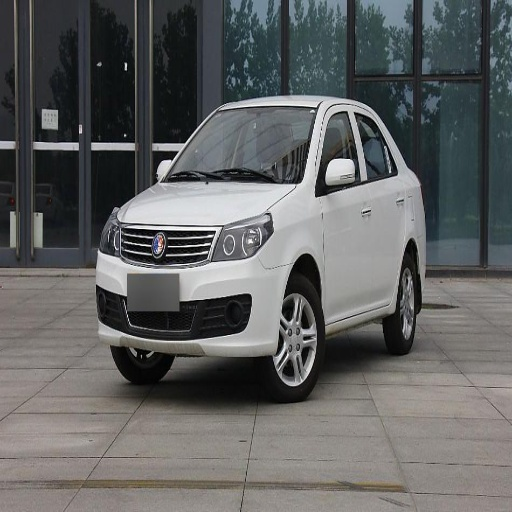front_bumper: (97, 221, 291, 353)
front_glass: (163, 110, 317, 183)
front_left_door: (319, 105, 373, 321)
